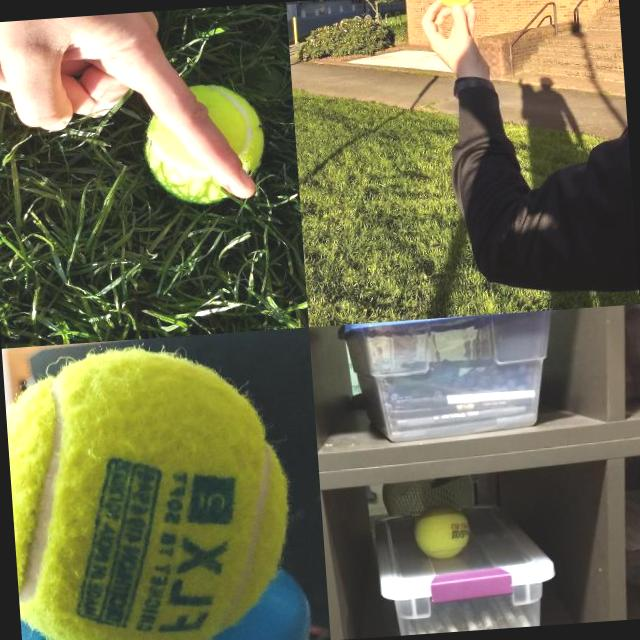Tennis Ball: (3, 339, 296, 640), (140, 80, 268, 206), (412, 502, 472, 560), (435, 0, 478, 8)
